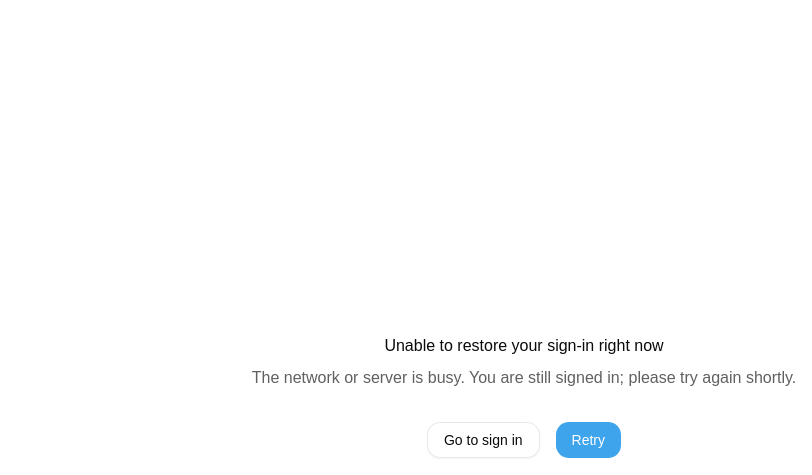
Test case: Retry asks the server again and reruns the guards of the page
Expected: the text "Unable to restore your sign-in right now" is shown, [384,334,664,358]
Click the button "Retry" at (588, 440), box [556,422,621,458]
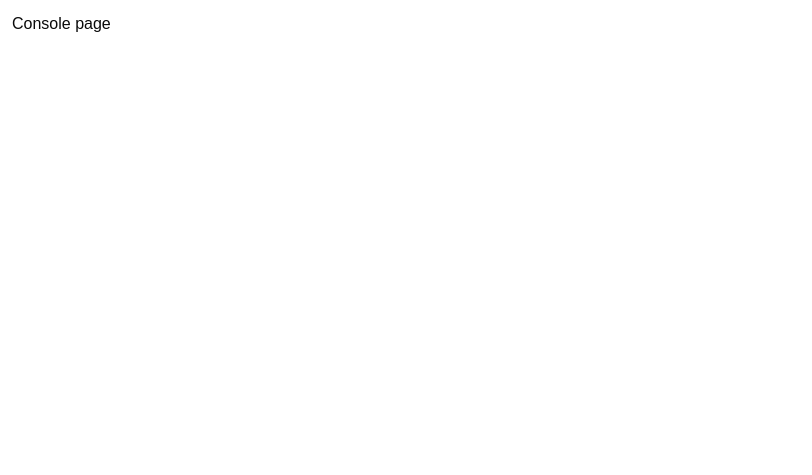
Expected: the text "Console page" is shown, [12,15,111,32]
